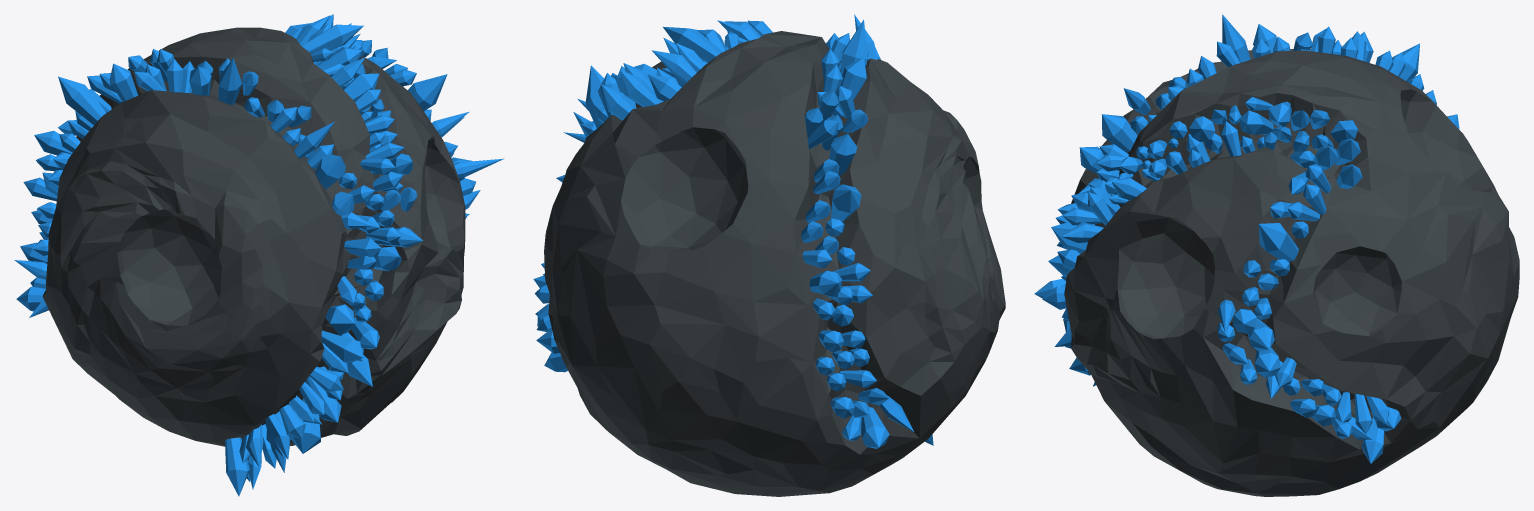
The model's file is Planet_48.glb.
The picture shows the model from 3 angles, left to right: view 1: azimuth 30°, elevation 25°; view 2: azimuth 150°, elevation 25°; view 3: azimuth 270°, elevation 25°; orthographic projection. The views are drawn at different scales.
Visible parts, largest first — view 1: Planet_48; view 2: Planet_48; view 3: Planet_48.
Part boxes in pixels (<box>): Planet_48: <box>14,14,504,496</box>; Planet_48: <box>533,14,1005,496</box>; Planet_48: <box>1034,14,1519,496</box>.
Size of the model in its own units: 22.56 by 21.34 by 21.72.
Materials: 1 (1 with a texture image).
